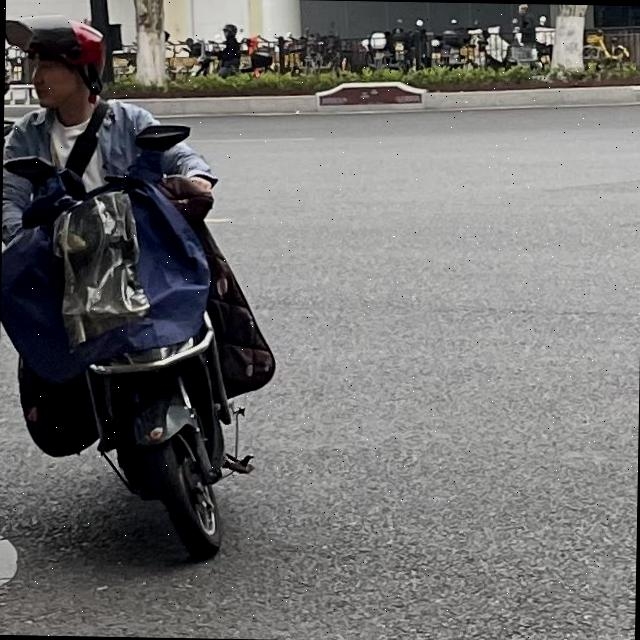curb: (125, 86, 640, 117), (3, 104, 35, 119)
